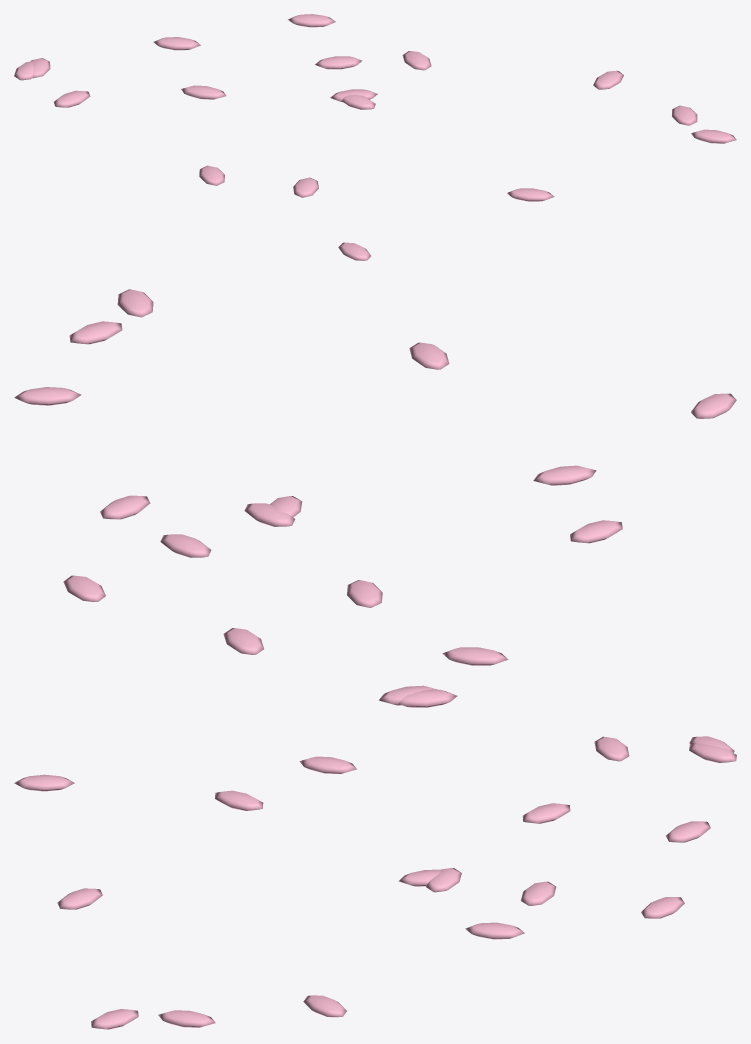
File: layer_spring_cluster.glb
3 views of the same model, one above another, from view 1: azimuth 30°, elevation 25°; view 2: azimuth 150°, elevation 25°; view 3: azimuth 270°, elevation 25° (orthographic). The views are drawn at different scales.
Size of the model in its own units: 1.58 by 0.025 by 1.66.
